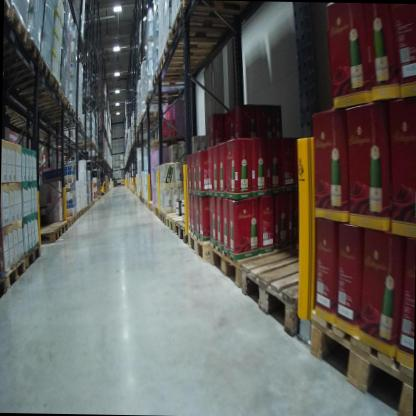pallet: (305, 308, 413, 416), (238, 234, 332, 334), (208, 240, 272, 295), (166, 5, 246, 41), (5, 33, 43, 91), (164, 32, 228, 64), (12, 72, 60, 108), (154, 49, 208, 78), (6, 0, 30, 61), (11, 55, 50, 92), (24, 86, 67, 113), (149, 67, 200, 88), (3, 252, 27, 296), (186, 227, 215, 263), (39, 95, 72, 122), (180, 1, 252, 13), (148, 133, 194, 151), (23, 242, 44, 274), (144, 89, 185, 103), (165, 211, 188, 234), (174, 217, 190, 250), (38, 225, 62, 246), (53, 117, 84, 133), (46, 219, 70, 237), (47, 107, 76, 121), (71, 139, 96, 151), (138, 109, 161, 121), (0, 270, 8, 299), (61, 215, 74, 228), (159, 209, 168, 224), (71, 213, 78, 224), (151, 202, 157, 214), (155, 205, 160, 218), (82, 204, 88, 214), (76, 210, 81, 220), (79, 207, 84, 217)
